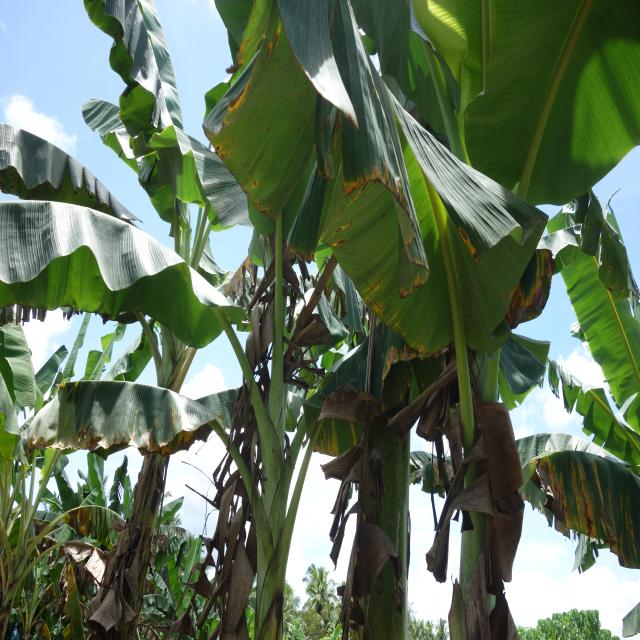Banana-plant: (88, 241, 215, 640), (238, 344, 305, 640)
